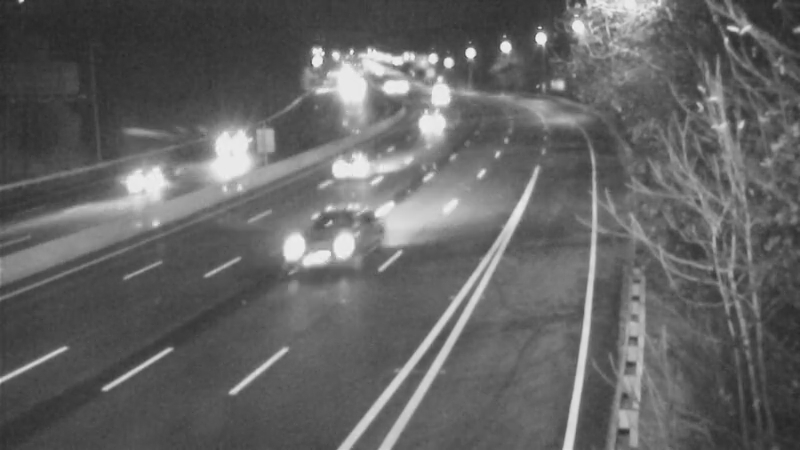vehicle: (313, 124, 393, 204), (283, 217, 363, 297), (113, 144, 193, 224), (377, 61, 427, 111), (360, 62, 410, 112), (417, 63, 467, 113), (417, 75, 467, 125), (407, 94, 457, 144), (200, 124, 250, 174)
